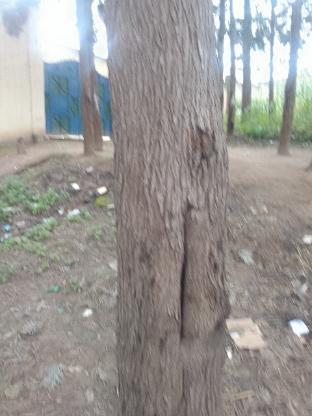tree: (92, 0, 237, 411)
